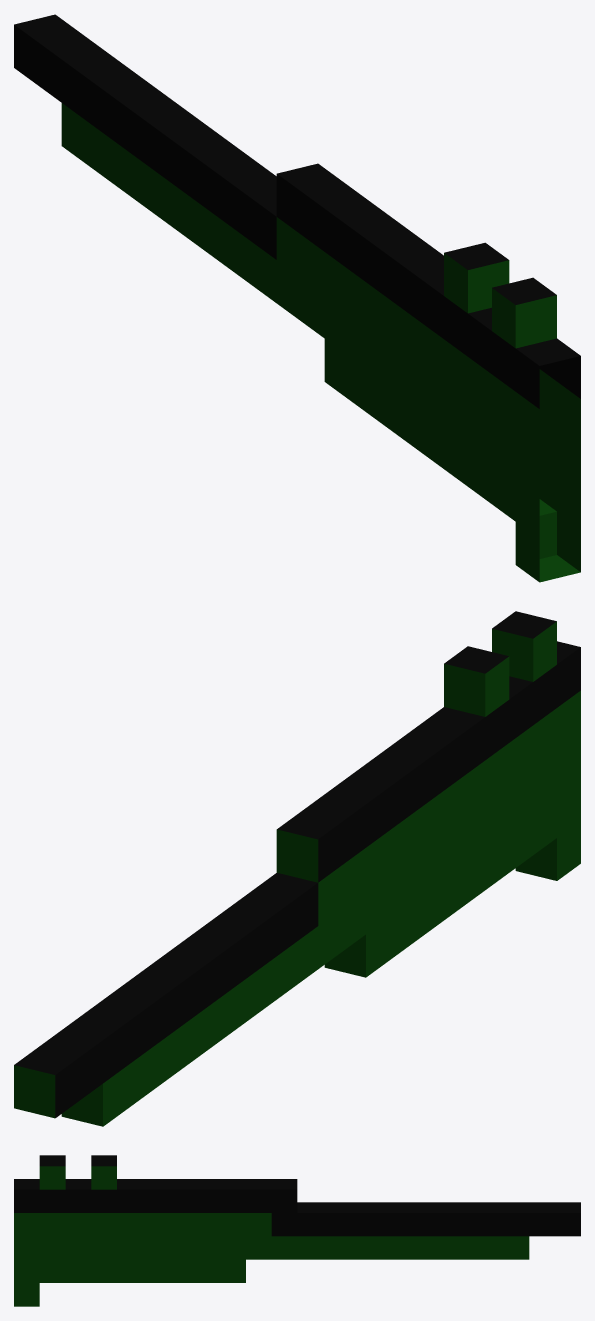
File: colaTiranosaurio.obj
3 renders of one model, top to bottom at view 1: azimuth 30°, elevation 25°; view 2: azimuth 150°, elevation 25°; view 3: azimuth 270°, elevation 25°, orthographic. The views are drawn at different scales.
Parts seen in each view (by area): view 1: Tyrannosaurus_2; view 2: Tyrannosaurus_2; view 3: Tyrannosaurus_2.
Part boxes in pixels (box(x1,y1,x2,y2)): Tyrannosaurus_2: box(14, 14, 580, 582); Tyrannosaurus_2: box(14, 611, 580, 1126); Tyrannosaurus_2: box(14, 1155, 580, 1306).
Bounding box in the file's own units: 0.5478 × 3.29 × 12.05.
